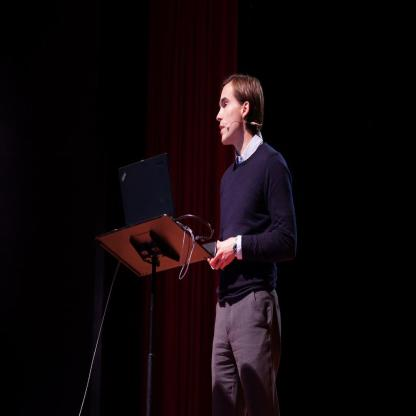board: (120, 150, 205, 242)
